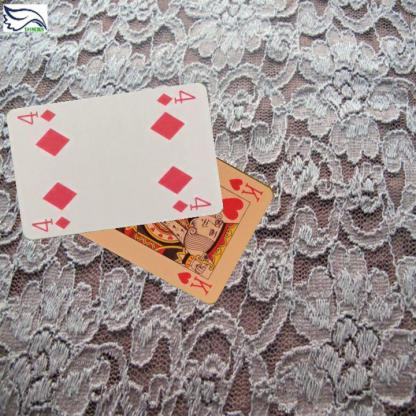4d: (29, 214, 71, 233), (154, 88, 196, 107)
Kh: (227, 175, 265, 203)
